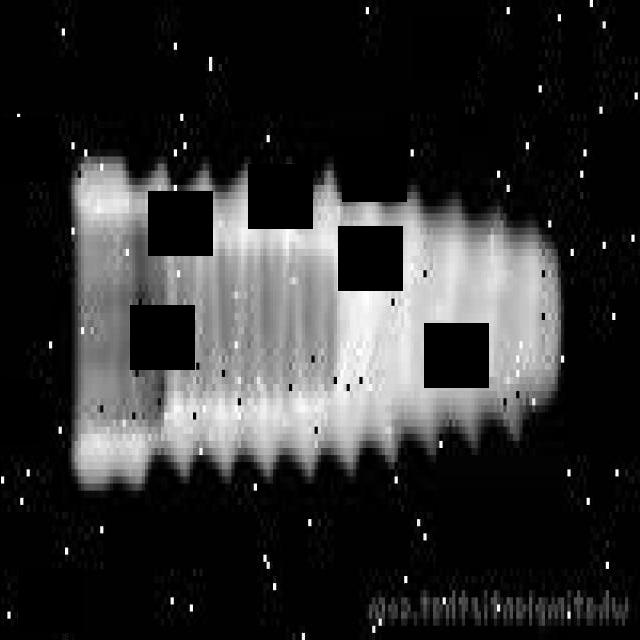Osstem Implant: (70, 156, 563, 491)
